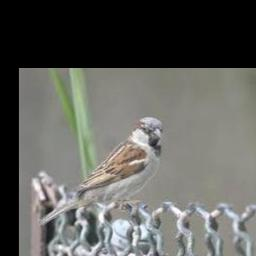Sparrow: (38, 116, 164, 228)
